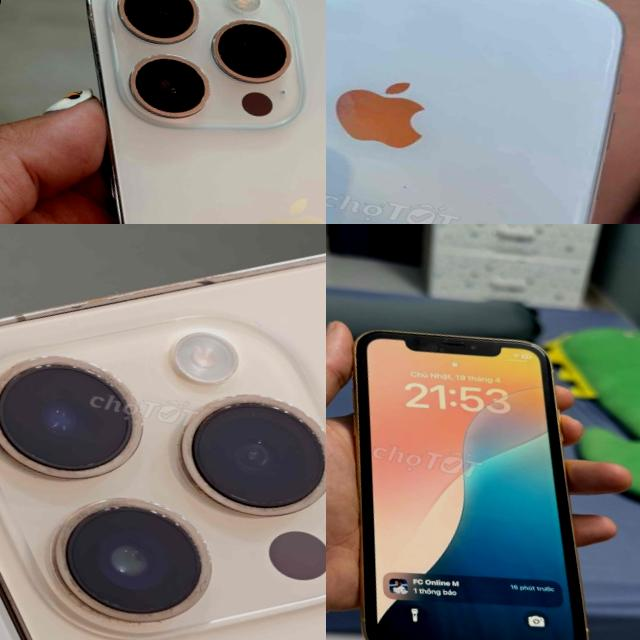gen_14: (0, 224, 326, 640), (0, 0, 326, 224)
gen_x_xs: (352, 331, 584, 640), (326, 0, 640, 224)
scratch: (378, 169, 422, 205)
